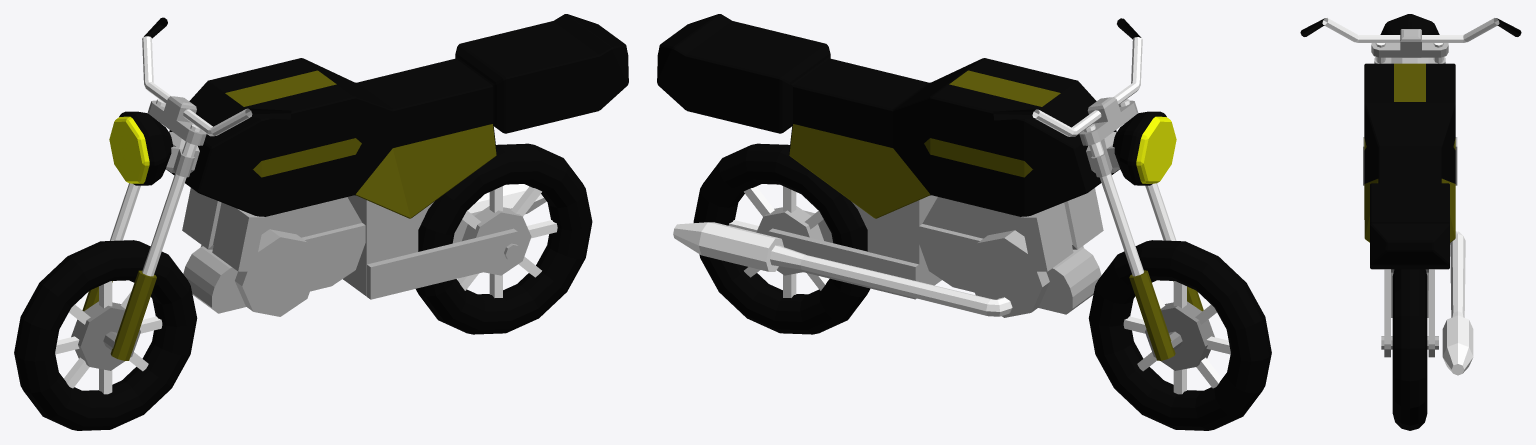
Rendered from Motor_3.fbx.
The picture shows the model from 3 angles, left to right: view 1: azimuth 30°, elevation 25°; view 2: azimuth 150°, elevation 25°; view 3: azimuth 270°, elevation 25°; orthographic projection. The views are drawn at different scales.
Parts seen in each view (by area): view 1: Cube.010; view 2: Cube.010; view 3: Cube.010.
Boxes of the visible parts, left/top/right/bottom form: Cube.010: left=14, top=14, right=628, bottom=430; Cube.010: left=657, top=14, right=1271, bottom=430; Cube.010: left=1300, top=14, right=1521, bottom=430.
Size of the model in its own units: 235 by 126 by 89.5.
